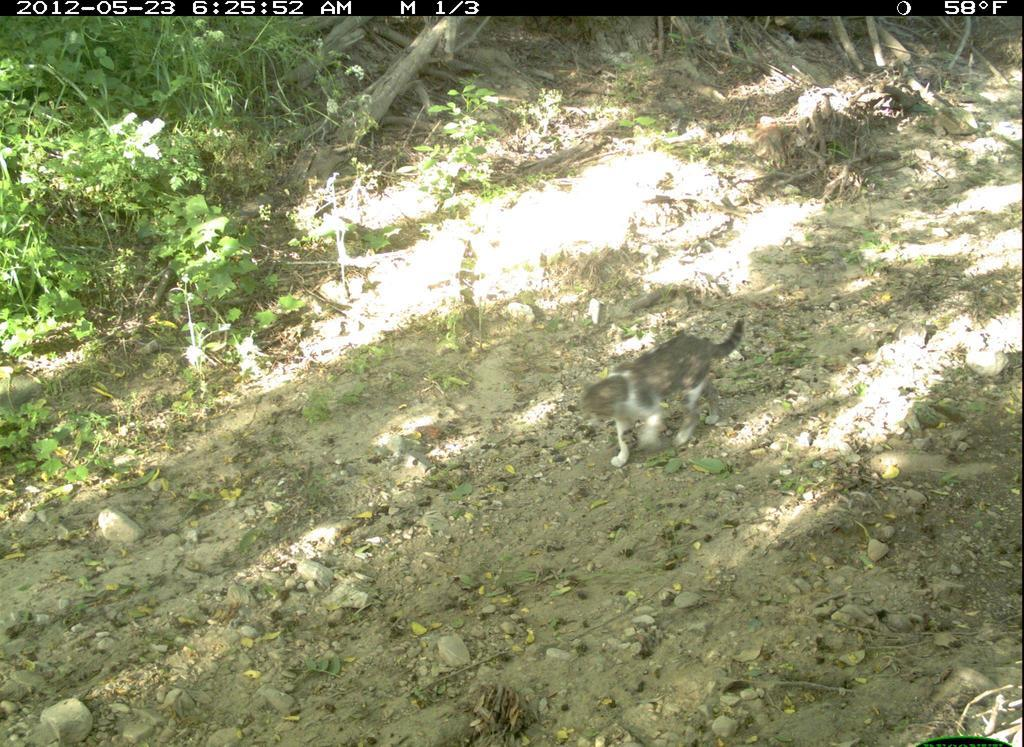cat: (575, 310, 751, 475)
